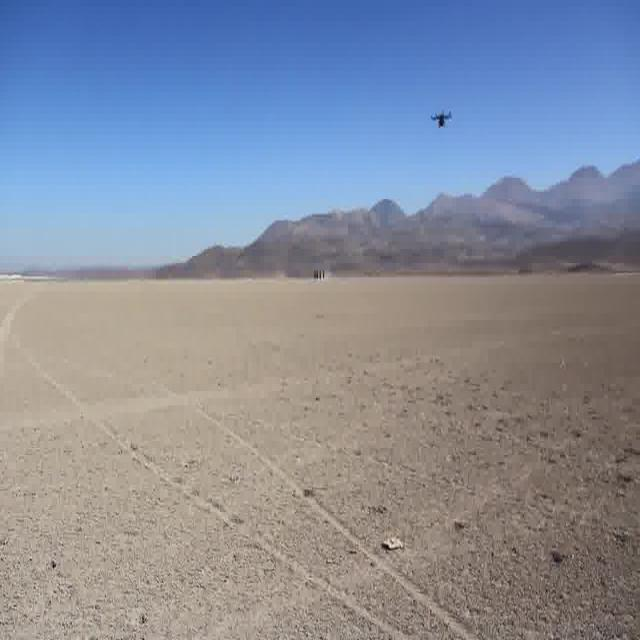Drone_FW: (430, 108, 452, 128)
